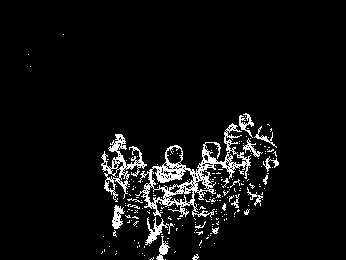person: (152, 141, 197, 257), (121, 144, 155, 247), (102, 132, 132, 233), (195, 139, 224, 241), (247, 120, 279, 212), (224, 111, 251, 195)
